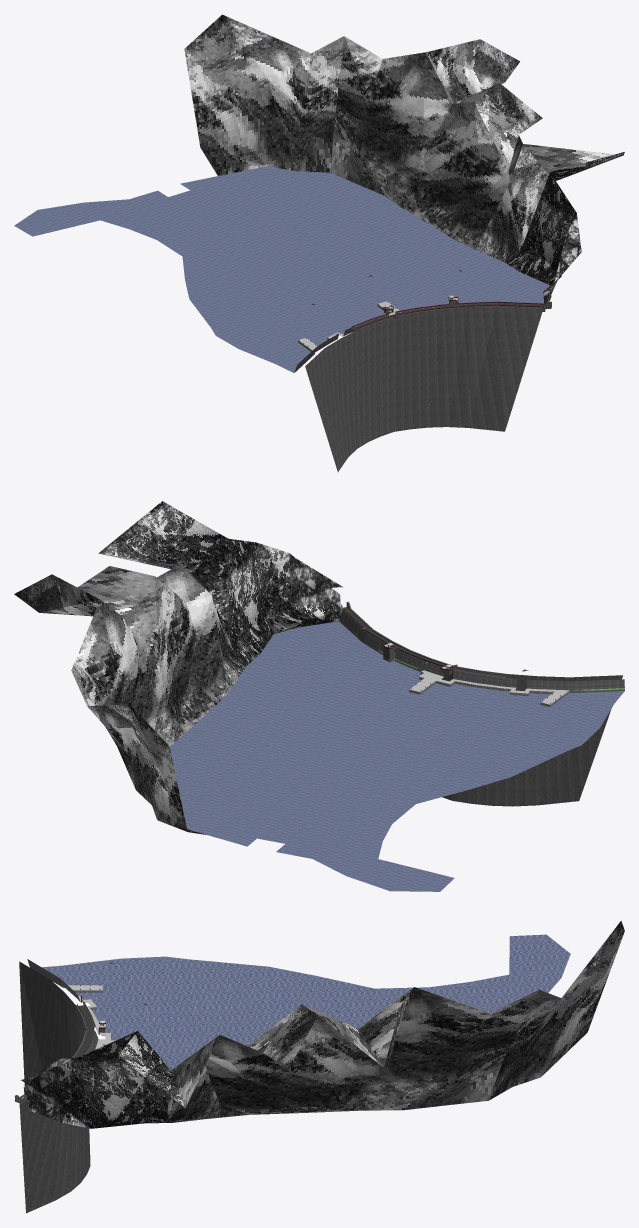
The model's file is dam23.obj.
The picture shows the model from 3 angles, top to bottom: view 1: azimuth 30°, elevation 25°; view 2: azimuth 150°, elevation 25°; view 3: azimuth 270°, elevation 25°; orthographic projection. The views are drawn at different scales.
Visible parts, largest first — view 1: 000_4E6D6411_c.bmp, 001_103AE2DC_c.bmp, 002_103AE2DC_c.bmp, 003_103AE2DC_c.bmp, 020_255D277A_c.bmp, 005_103AE2DC_c.bmp, 024_255D277A_c.bmp, 022_255D277A_c.bmp, 023_255D277A_c.bmp, 006_250FD62A_c.bmp, 004_250FD62A_c.bmp; view 2: 000_4E6D6411_c.bmp, 003_103AE2DC_c.bmp, 002_103AE2DC_c.bmp, 004_250FD62A_c.bmp, 006_250FD62A_c.bmp, 001_103AE2DC_c.bmp, 024_255D277A_c.bmp, 005_103AE2DC_c.bmp, 053_25813CA2_c.bmp, 040_25813CA2_c.bmp, 029_25813CA2_c.bmp, 023_255D277A_c.bmp; view 3: 000_4E6D6411_c.bmp, 002_103AE2DC_c.bmp, 003_103AE2DC_c.bmp, 001_103AE2DC_c.bmp, 006_250FD62A_c.bmp, 020_255D277A_c.bmp, 005_103AE2DC_c.bmp, 024_255D277A_c.bmp, 004_250FD62A_c.bmp, 022_255D277A_c.bmp.
Part boxes in pixels (x1,y1,x2,y2): 000_4E6D6411_c.bmp: [14, 166, 549, 372]; 001_103AE2DC_c.bmp: [184, 14, 343, 175]; 002_103AE2DC_c.bmp: [330, 36, 519, 208]; 003_103AE2DC_c.bmp: [404, 82, 542, 241]; 020_255D277A_c.bmp: [428, 306, 543, 431]; 005_103AE2DC_c.bmp: [458, 144, 614, 261]; 024_255D277A_c.bmp: [305, 330, 367, 471]; 022_255D277A_c.bmp: [394, 309, 442, 431]; 023_255D277A_c.bmp: [357, 317, 395, 441]; 006_250FD62A_c.bmp: [518, 172, 581, 311]; 004_250FD62A_c.bmp: [504, 152, 624, 271]; 000_4E6D6411_c.bmp: [169, 621, 624, 891]; 003_103AE2DC_c.bmp: [77, 565, 223, 737]; 002_103AE2DC_c.bmp: [14, 574, 179, 746]; 004_250FD62A_c.bmp: [98, 501, 258, 666]; 006_250FD62A_c.bmp: [228, 538, 342, 654]; 001_103AE2DC_c.bmp: [72, 672, 205, 834]; 024_255D277A_c.bmp: [491, 674, 622, 806]; 005_103AE2DC_c.bmp: [101, 554, 245, 697]; 053_25813CA2_c.bmp: [505, 678, 624, 693]; 040_25813CA2_c.bmp: [401, 653, 505, 686]; 029_25813CA2_c.bmp: [339, 611, 403, 664]; 023_255D277A_c.bmp: [452, 674, 508, 805]; 000_4E6D6411_c.bmp: [42, 934, 570, 1110]; 002_103AE2DC_c.bmp: [356, 987, 538, 1110]; 003_103AE2DC_c.bmp: [220, 1004, 383, 1114]; 001_103AE2DC_c.bmp: [489, 921, 624, 1100]; 006_250FD62A_c.bmp: [21, 1031, 142, 1128]; 020_255D277A_c.bmp: [19, 1100, 80, 1213]; 005_103AE2DC_c.bmp: [167, 1035, 249, 1122]; 024_255D277A_c.bmp: [19, 961, 77, 1086]; 004_250FD62A_c.bmp: [118, 1031, 184, 1123]; 022_255D277A_c.bmp: [78, 1126, 90, 1182].
Bounding box in the file's own units: 9.14 × 4.65 × 9.1.
